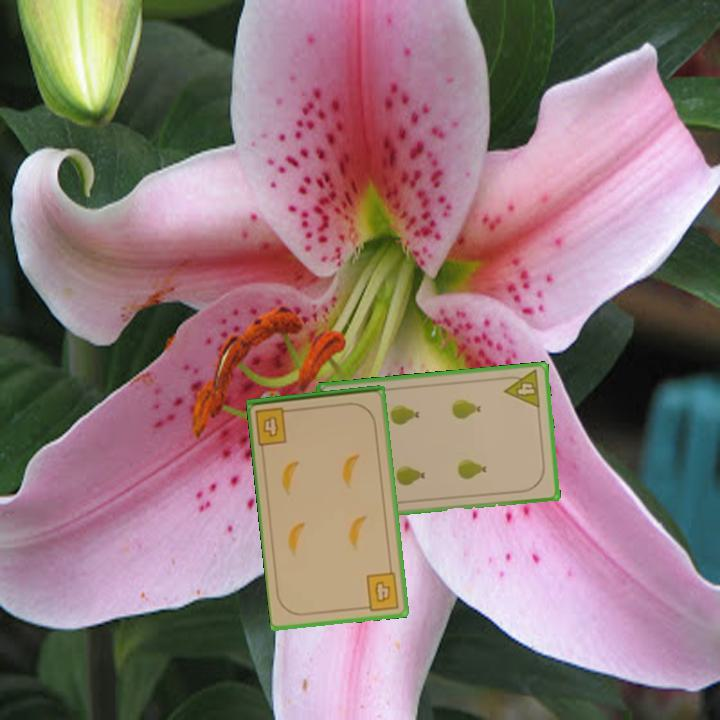4b: (252, 403, 296, 448), (359, 569, 402, 614)
4p: (500, 366, 543, 411)
